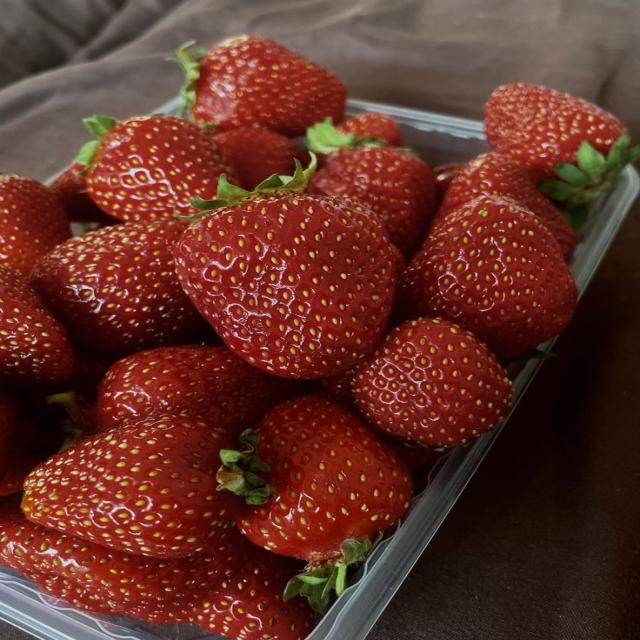strawberry: (175, 164, 395, 377), (0, 499, 313, 639), (239, 395, 412, 592), (22, 416, 236, 557), (0, 496, 239, 622), (397, 197, 577, 359), (32, 220, 205, 358), (354, 318, 512, 446), (485, 83, 639, 204), (307, 122, 437, 258), (99, 346, 297, 435), (177, 36, 346, 137), (79, 115, 234, 222), (434, 153, 576, 257), (192, 536, 314, 639), (0, 266, 74, 385), (0, 175, 71, 272), (0, 390, 64, 495), (214, 126, 299, 190), (51, 163, 118, 225), (25, 572, 120, 614), (390, 438, 445, 480), (336, 112, 402, 146), (316, 368, 355, 408), (0, 391, 15, 482), (433, 163, 463, 199), (392, 245, 406, 278)
